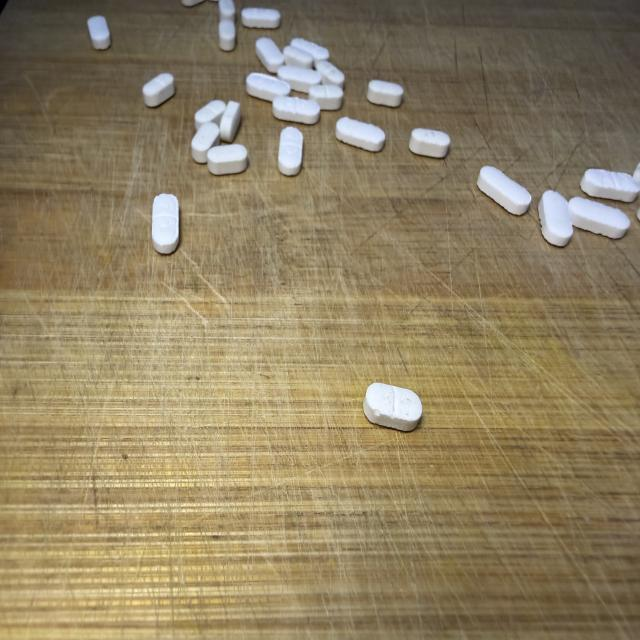pill: (364, 383, 422, 431), (477, 166, 531, 215), (569, 198, 629, 238), (581, 169, 639, 202), (538, 191, 572, 246), (336, 118, 385, 151), (152, 194, 179, 253), (273, 97, 320, 124), (207, 144, 247, 175), (247, 73, 290, 101), (278, 127, 303, 175), (409, 129, 450, 158), (278, 65, 320, 92), (192, 123, 220, 163), (143, 73, 174, 107), (256, 38, 284, 73), (367, 80, 403, 107), (291, 38, 329, 62), (195, 100, 225, 129), (220, 101, 241, 142), (309, 85, 343, 110), (315, 60, 344, 88), (88, 16, 111, 50), (241, 8, 280, 28), (283, 45, 313, 68), (219, 20, 236, 51), (219, 0, 235, 21), (181, 0, 204, 6), (633, 163, 639, 182), (637, 208, 639, 220)
